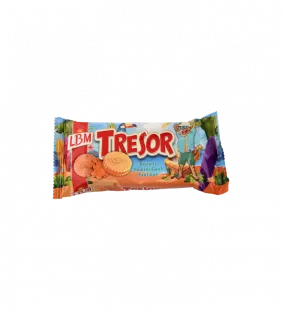LBM: (44, 102, 236, 204)
